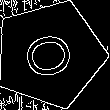O_E: (18, 26, 82, 83)
